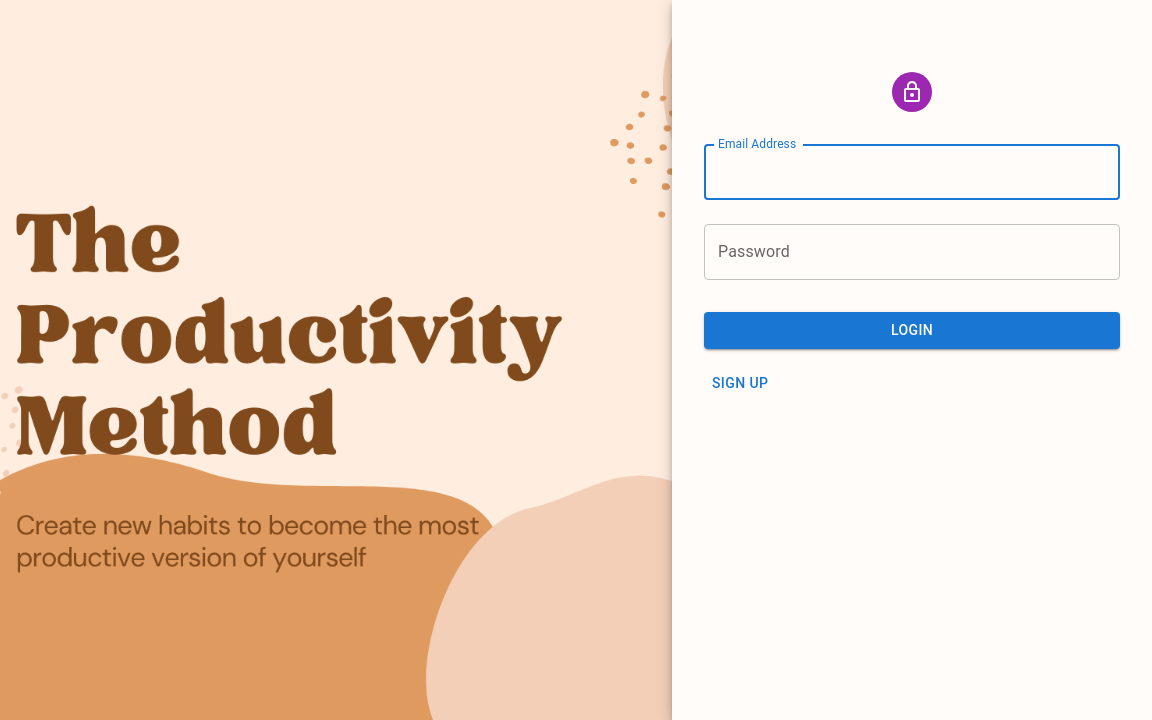
Scenario: Login › should render sign up when toggled
Click the button with test id "sign-up-button": [740, 383] box left=704, top=364, right=776, bottom=401
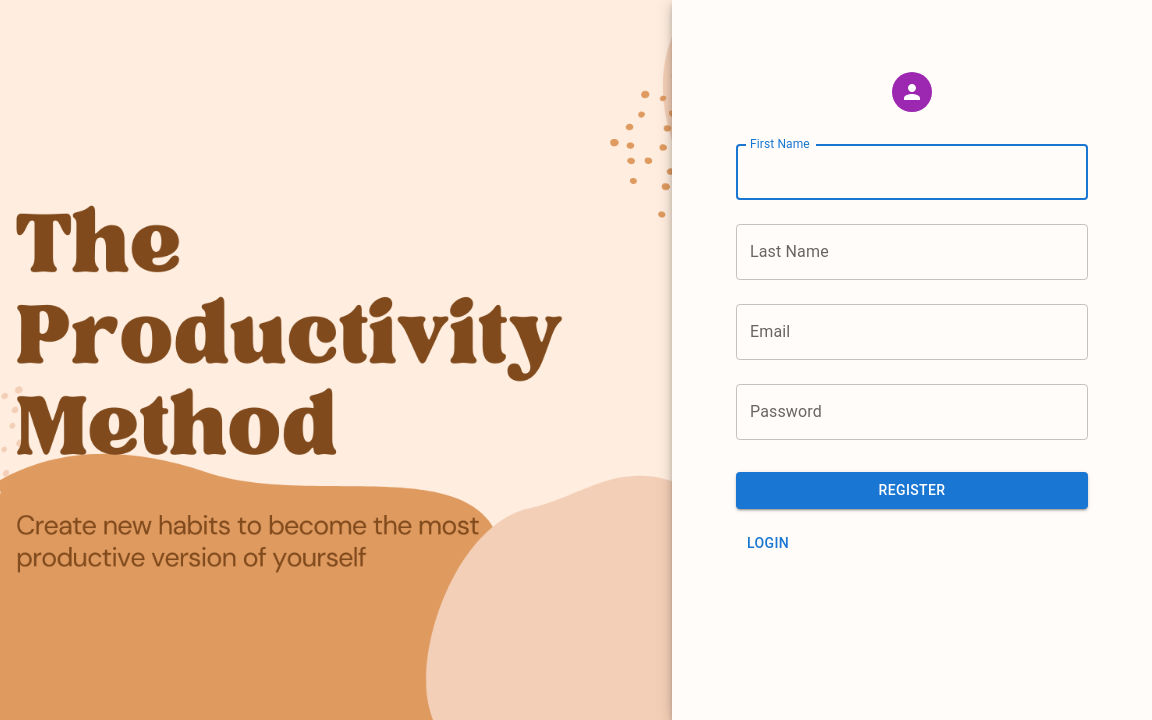
Check: the element with test id "sign-up-panel" is shown, box left=672, top=0, right=1151, bottom=719
